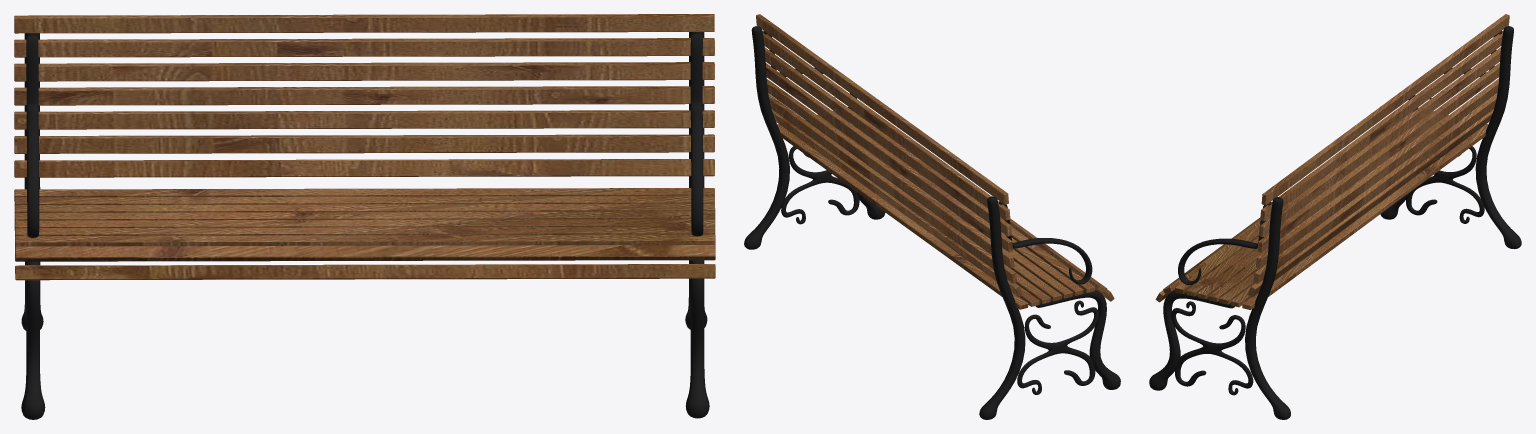
The model's file is parkChair.FBX.
3 views of the same model, side by side, from view 1: azimuth 30°, elevation 25°; view 2: azimuth 150°, elevation 25°; view 3: azimuth 270°, elevation 25° (orthographic). The views are drawn at different scales.
Visible parts, largest first — view 1: pCube40, pCube37, pCube38, pCube36, pCube39, pCube35, pCube34, pCube41, pCube42, pCube43, pCube49, pCube46 (+8 smaller); view 2: pCube40, pCube39, pCube37, pCube38, pCube36, pCube35, pCube49, polyToSubd, polyToSub3, pCube34, polyToSub2, polyToSub1 (+8 smaller); view 3: pCube40, pCube39, pCube37, pCube38, pCube36, pCube35, pCube49, polyToSubd, polyToSub3, pCube34, polyToSub6, polyToSub5 (+8 smaller).
Part boxes in pixels (box(x1,y1,x2,y2)): pCube40: box(14, 14, 714, 33); pCube37: box(14, 86, 714, 105); pCube38: box(14, 62, 714, 81); pCube36: box(14, 110, 714, 129); pCube39: box(14, 38, 714, 57); pCube35: box(14, 134, 714, 153); pCube34: box(14, 159, 714, 177); pCube41: box(15, 245, 715, 261); pCube42: box(15, 264, 715, 280); pCube43: box(15, 234, 715, 246); pCube49: box(14, 188, 714, 200); pCube46: box(14, 211, 715, 220); pCube40: box(756, 14, 1008, 204); pCube39: box(762, 31, 1010, 220); pCube37: box(766, 63, 1012, 252); pCube38: box(764, 47, 1011, 236); pCube36: box(766, 79, 1014, 268); pCube35: box(768, 93, 1017, 283); pCube49: box(777, 124, 1028, 309); polyToSubd: box(979, 196, 1025, 419); polyToSub3: box(744, 26, 789, 249); pCube34: box(771, 109, 1022, 296); polyToSub2: box(1017, 300, 1098, 394); polyToSub1: box(1035, 290, 1120, 389); pCube40: box(1261, 14, 1509, 205); pCube39: box(1260, 30, 1503, 221); pCube37: box(1257, 63, 1499, 252); pCube38: box(1259, 47, 1500, 236); pCube36: box(1255, 78, 1498, 268); pCube35: box(1253, 93, 1497, 283); pCube49: box(1242, 124, 1488, 309); polyToSubd: box(1475, 26, 1521, 249); polyToSub3: box(1245, 197, 1290, 419); pCube34: box(1248, 109, 1493, 297); polyToSub6: box(1171, 301, 1253, 395); polyToSub5: box(1149, 291, 1234, 390).
Bounding box in the file's own units: 193 × 98.48 × 146.
Materials: 2 (1 with a texture image).
